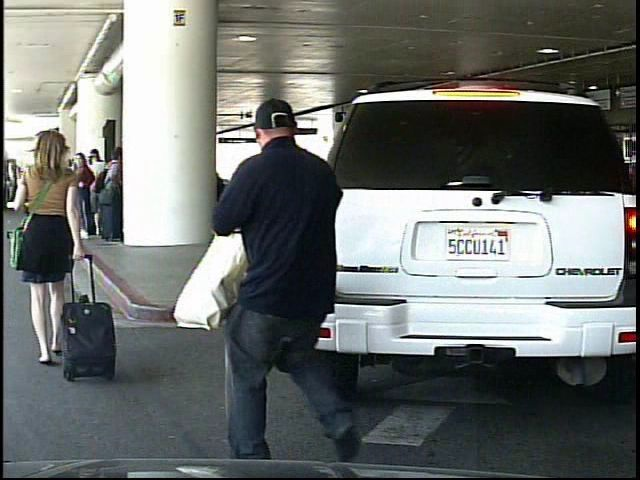person: (211, 92, 373, 467), (5, 126, 96, 392)
